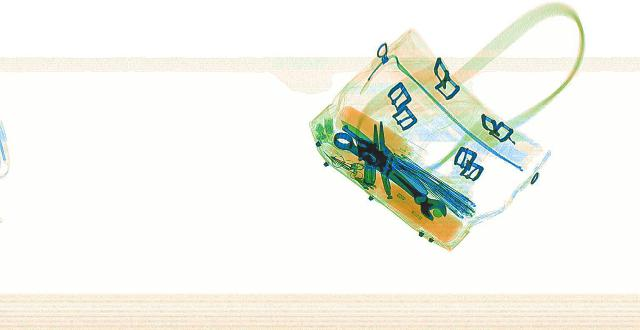Knife: (334, 121, 434, 195)
Wrench: (314, 129, 460, 219)
